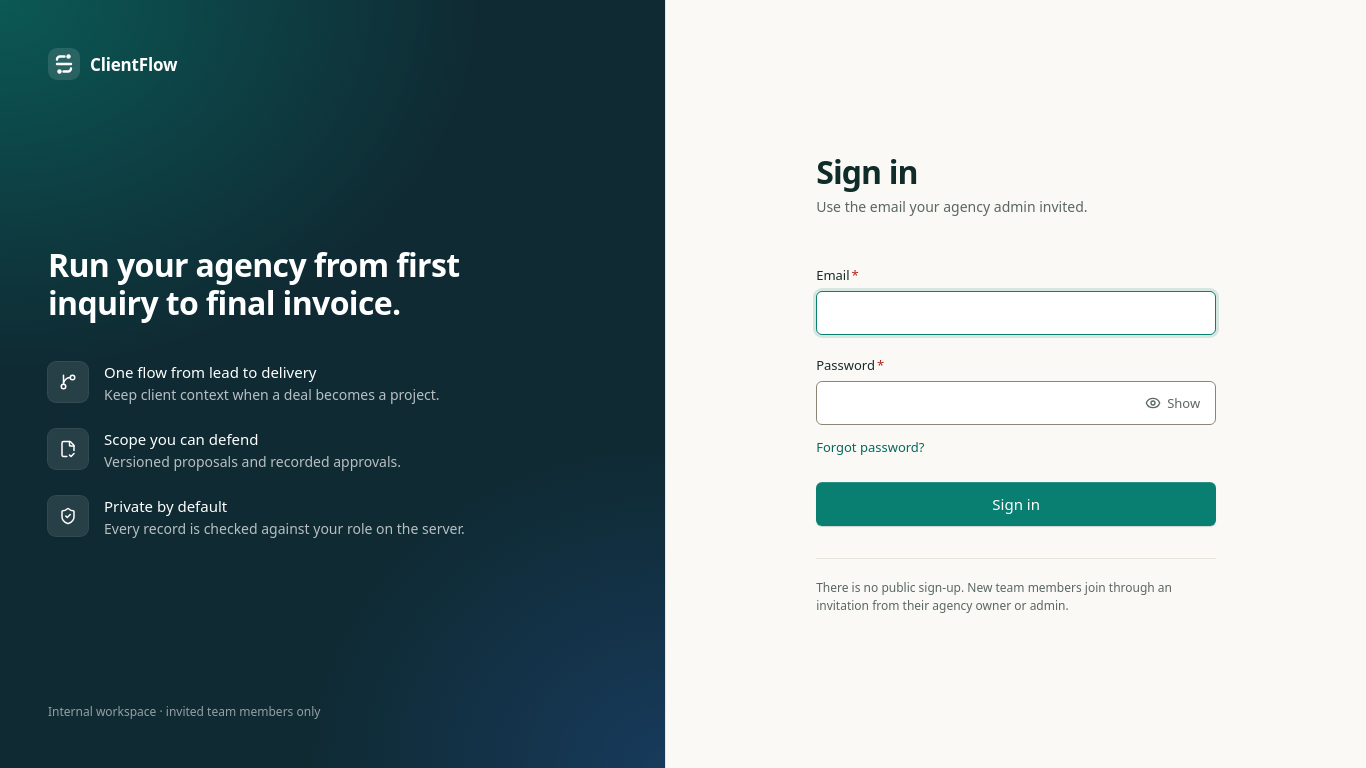
LoginPage with the deployment flag in the page (CLS) › asks nothing and shows no demo block when the page says this is not a demo
Click the button "Sign in". click: (1016,504)
box: [816,482,1216,526]
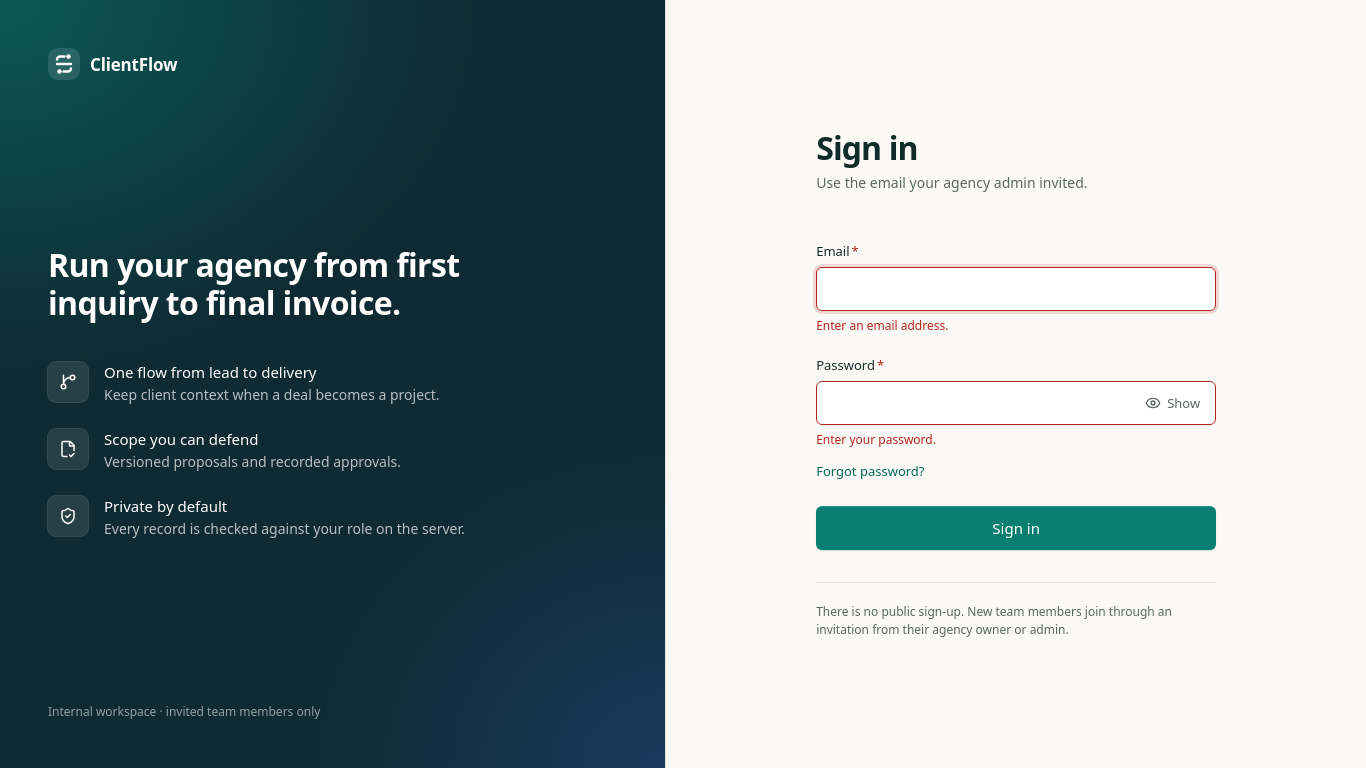
Expected: the text "Enter an email address." is shown, [816,317,948,334]
